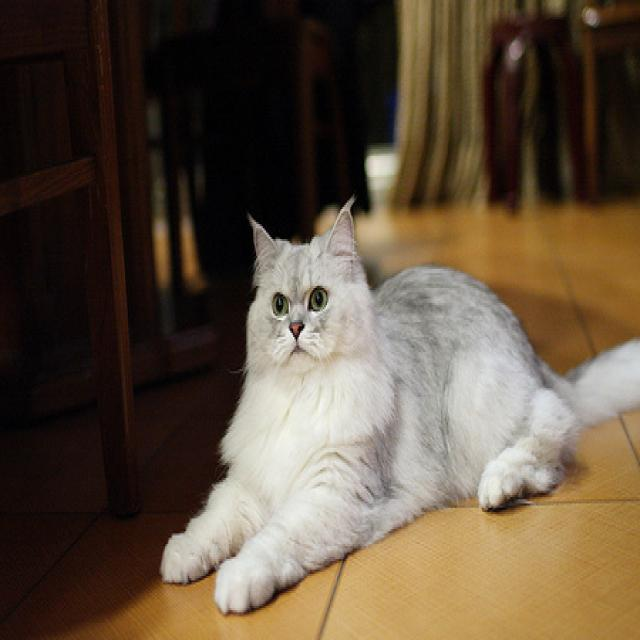Persian: (153, 194, 640, 618)
